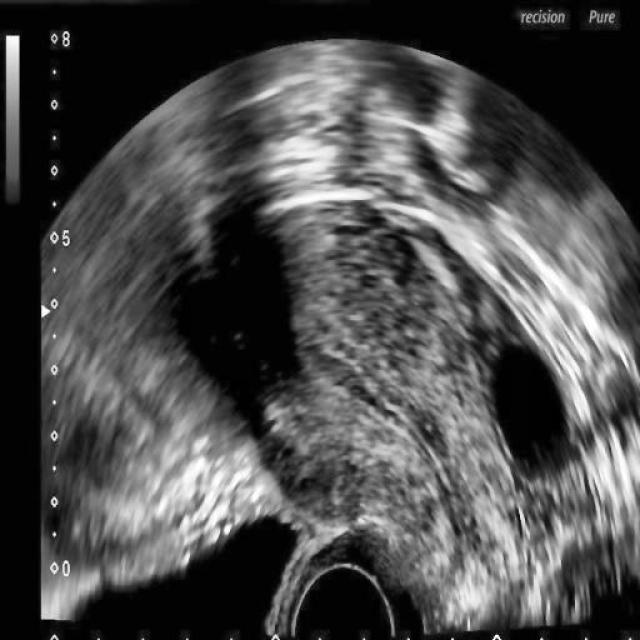viable embryo: (36, 35, 639, 639)
